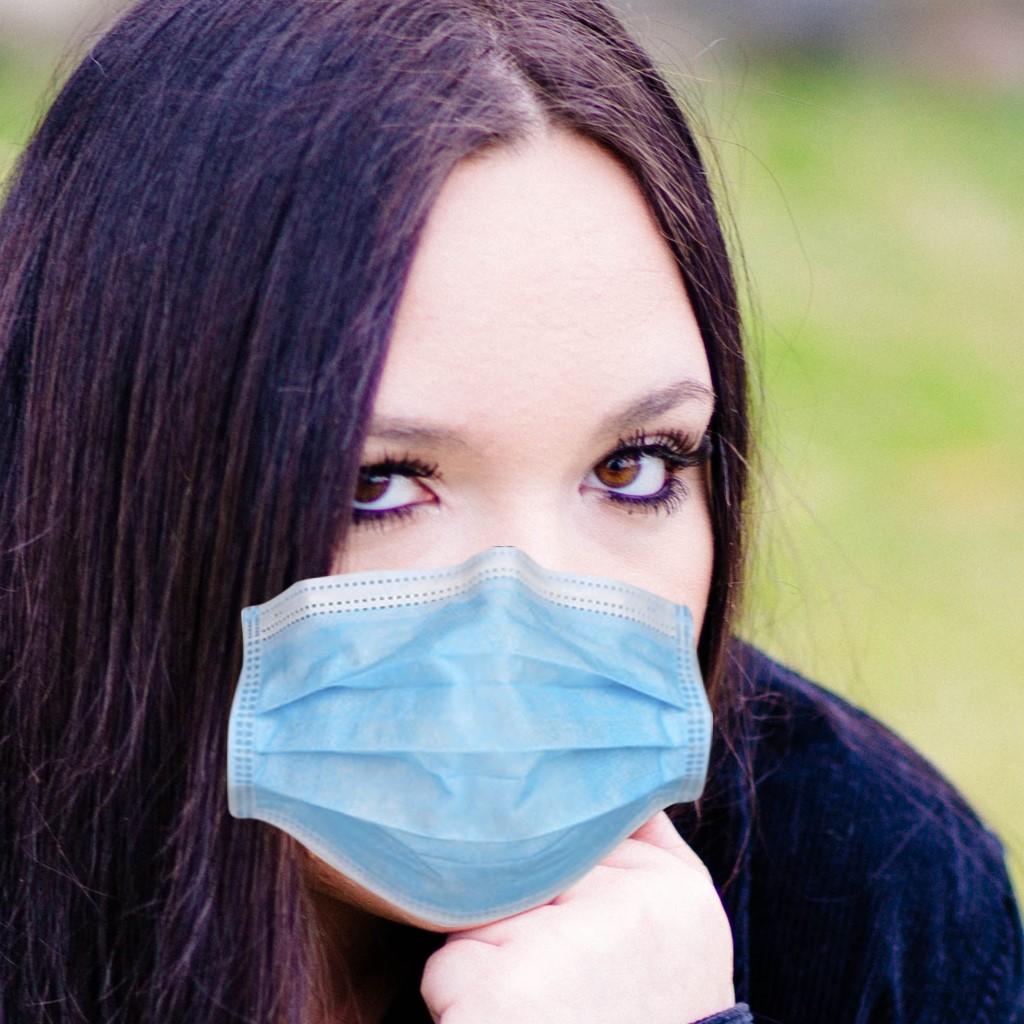con_mascara: (189, 107, 732, 911)
